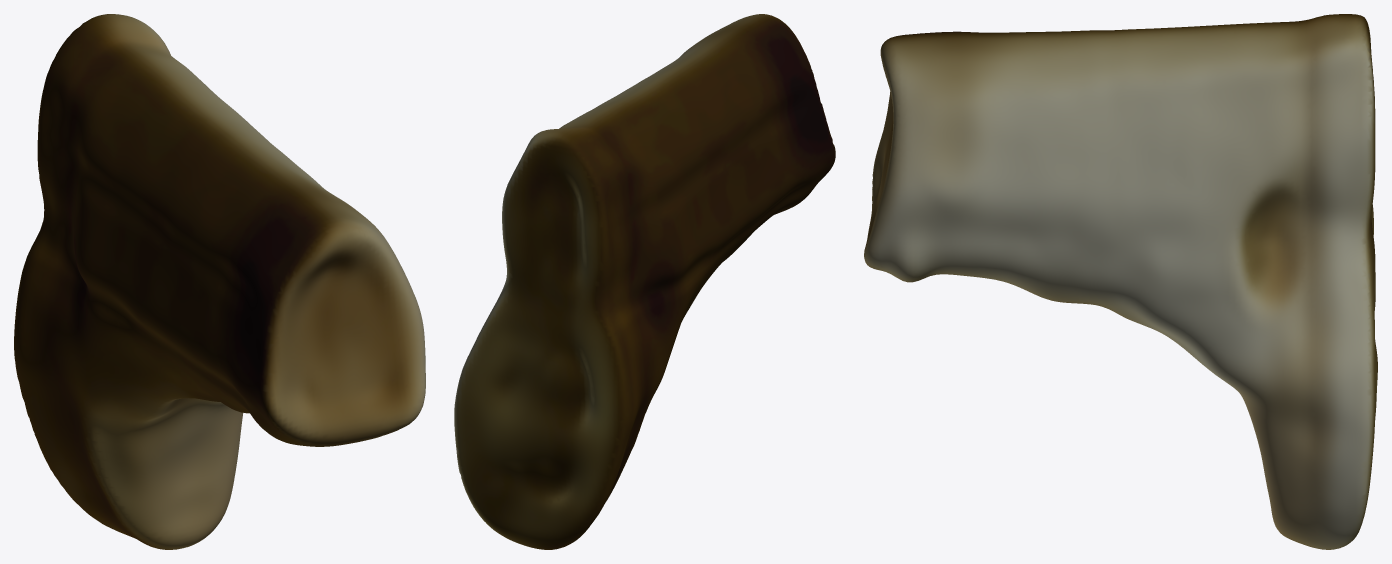
The model's file is shoe1.glb.
3 renders of one model, left to right at view 1: azimuth 30°, elevation 25°; view 2: azimuth 150°, elevation 25°; view 3: azimuth 270°, elevation 25°, orthographic. The views are drawn at different scales.
Bounding box in the file's own units: 0.4284 × 0.9997 × 0.9289.
